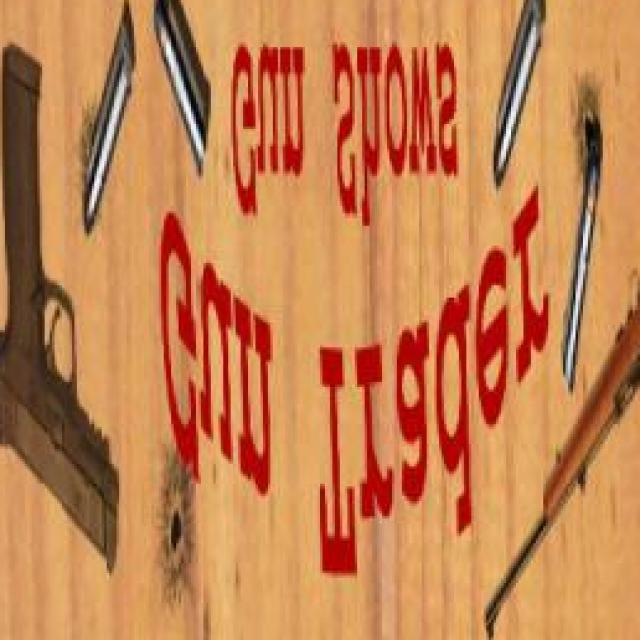pistol: (0, 42, 119, 588)
